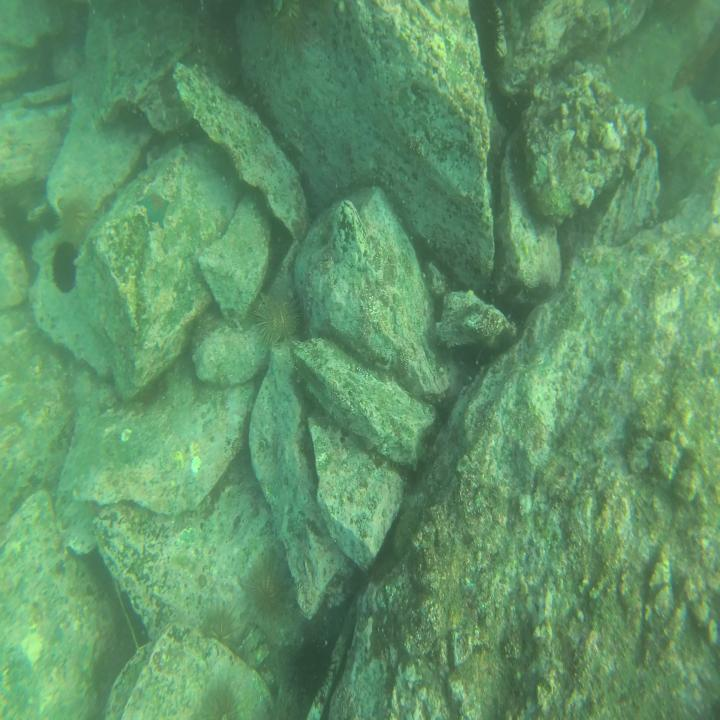echinus: (285, 632, 337, 697), (242, 557, 286, 619), (253, 297, 302, 349), (466, 6, 509, 57), (205, 21, 244, 72), (197, 602, 240, 645), (270, 6, 310, 50), (57, 196, 97, 238), (205, 684, 245, 720), (54, 239, 77, 289)
starfish: (137, 185, 171, 229)
